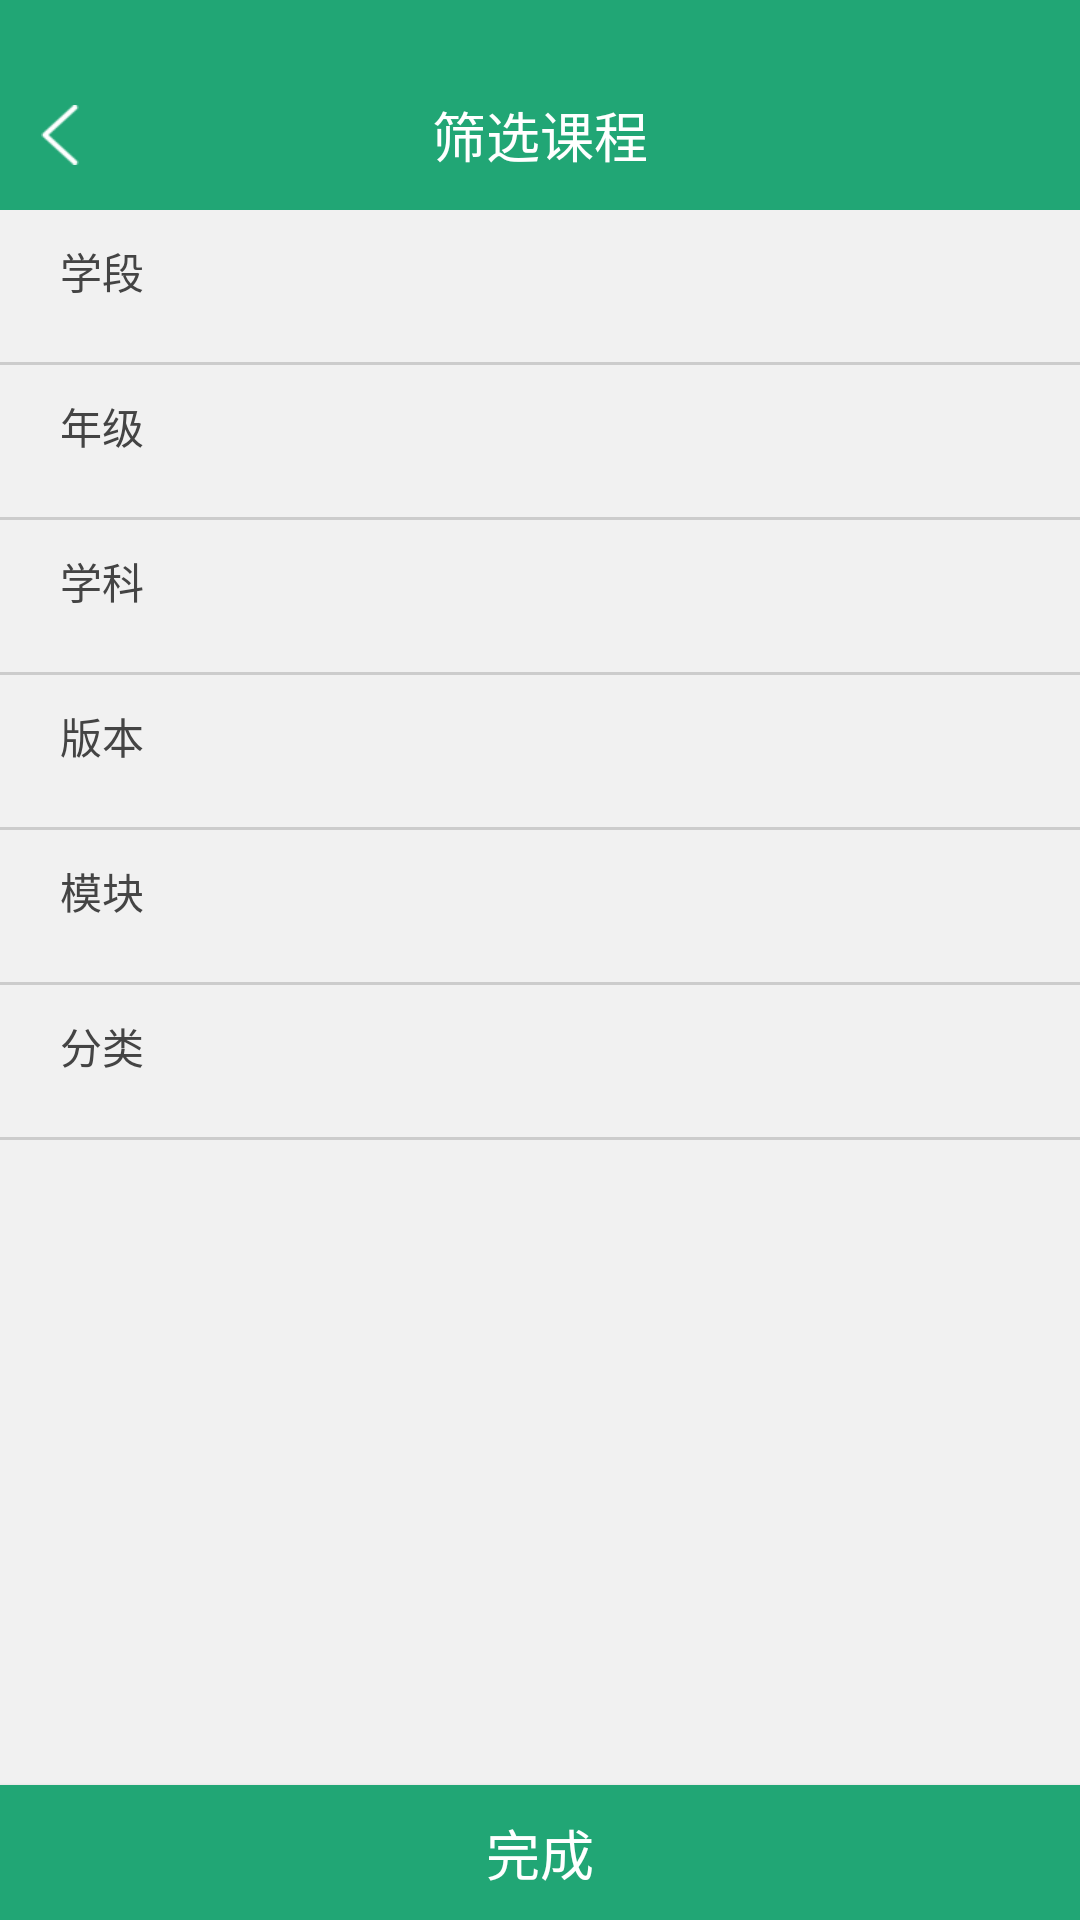

Where to tap for icons on this 1080×1920 app screen, as (x,y):
arrow left: (60,135)
